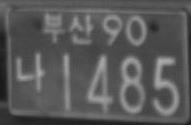0: (125, 14, 147, 46)
1: (53, 53, 80, 110)
4: (86, 52, 113, 113)
5: (151, 55, 180, 117)
8: (119, 54, 146, 115)
9: (102, 13, 123, 46)
나: (15, 52, 45, 93)
부산_O: (43, 11, 94, 46)
